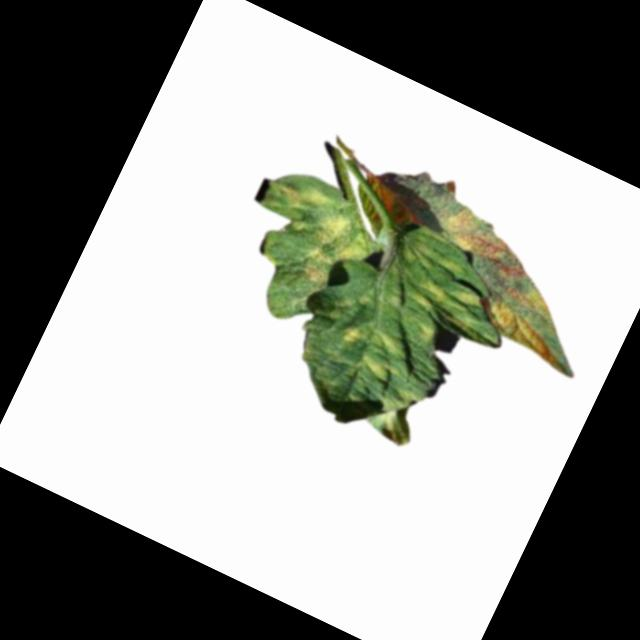Leaf_Mold: (357, 149, 527, 269), (471, 267, 602, 378), (289, 204, 379, 304), (332, 313, 410, 384), (406, 268, 487, 334), (271, 170, 335, 221)
